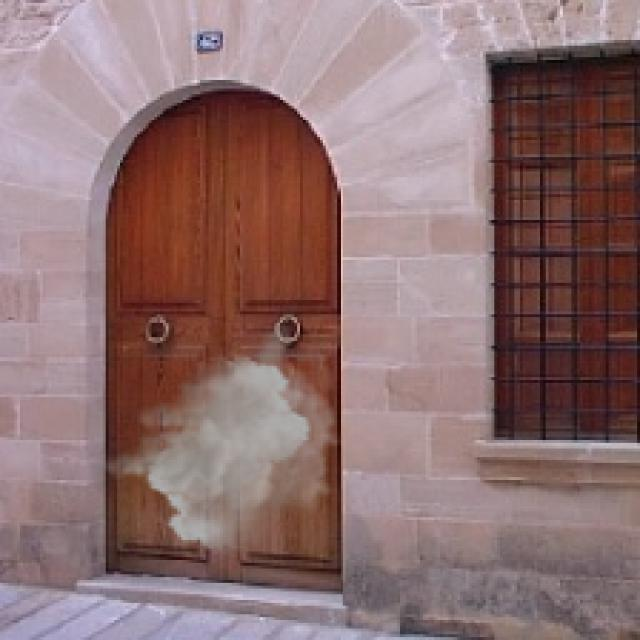smoke: (100, 323, 343, 554)
